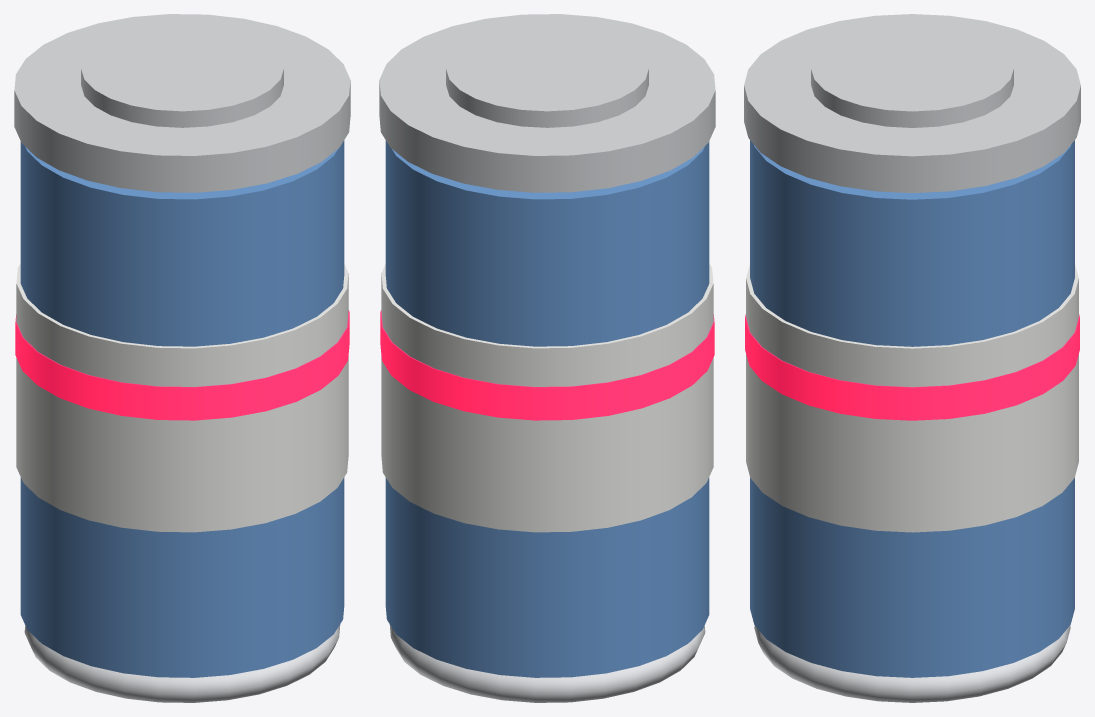
Rendered from baking_soda.glb.
3 views of the same model, side by side, from view 1: azimuth 30°, elevation 25°; view 2: azimuth 150°, elevation 25°; view 3: azimuth 270°, elevation 25° (orthographic).
Visible parts, largest first — view 1: baking_soda_Mesh; view 2: baking_soda_Mesh; view 3: baking_soda_Mesh.
Part boxes in pixels (box(x1,y1,x2,y2)): baking_soda_Mesh: box(14, 14, 350, 702); baking_soda_Mesh: box(379, 14, 715, 702); baking_soda_Mesh: box(744, 14, 1080, 702).
Bounding box in the file's own units: 0.166 × 0.312 × 0.166.
